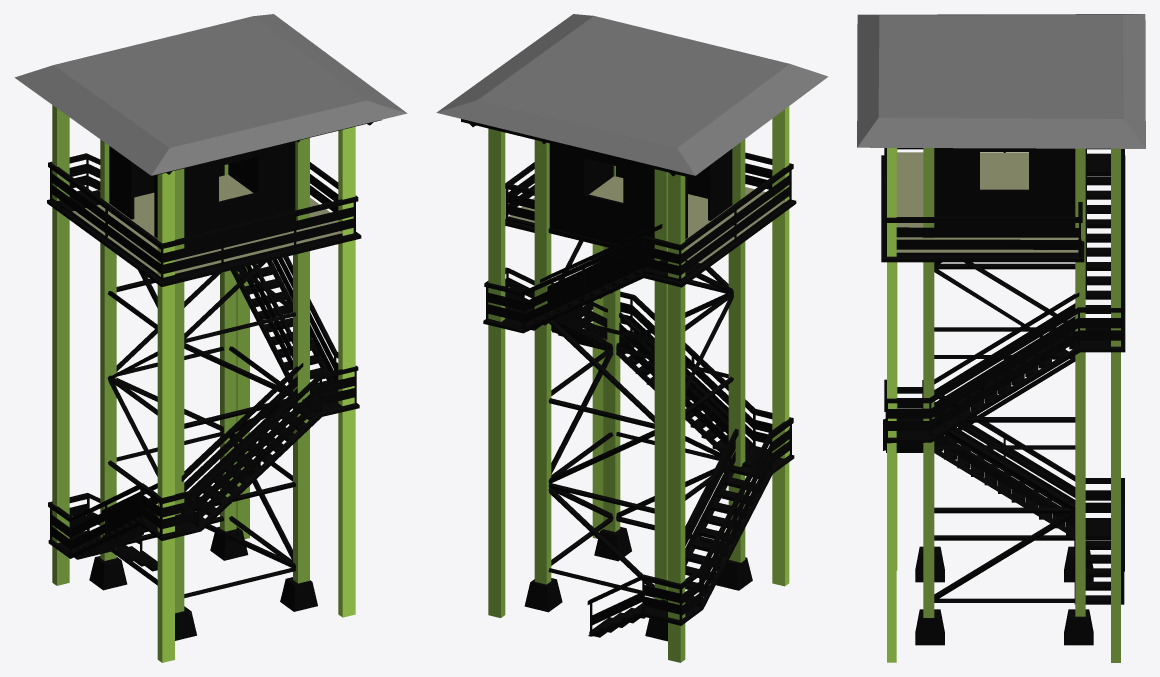
Rendered from watch tower.fbx.
3 renders of one model, left to right at view 1: azimuth 30°, elevation 25°; view 2: azimuth 150°, elevation 25°; view 3: azimuth 270°, elevation 25°, orthographic. The views are drawn at different scales.
Parts seen in each view (by area): view 1: Cube; view 2: Cube; view 3: Cube.
Boxes of the visible parts, x1=… form: Cube: x1=14, y1=14, x2=407, y2=662; Cube: x1=436, y1=14, x2=828, y2=662; Cube: x1=857, y1=14, x2=1145, y2=662.
Size of the model in its own units: 599 by 1139 by 542.
